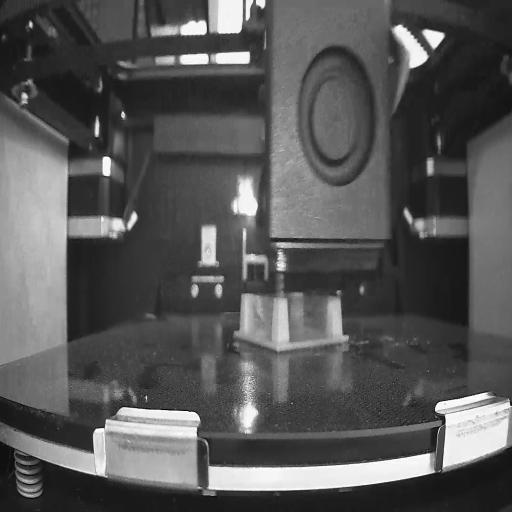stringing: (287, 296, 330, 344), (249, 298, 273, 342)
